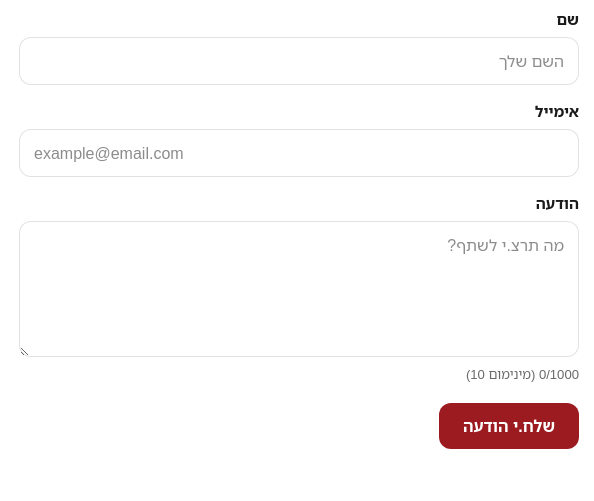
Test case: ContactForm › shows server error from failed action result
The image size is (594, 501).
In the field with placeholder "השם שלך": (299, 61) [19, 37, 579, 85], type "יוסי כהן"
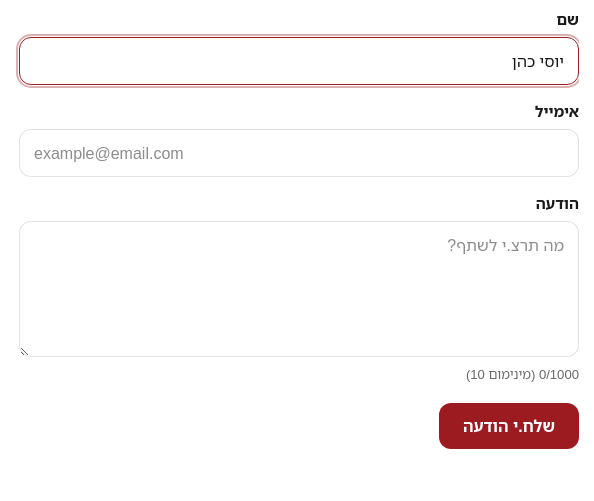
In the field with placeholder "example@email.com": (299, 153) [19, 129, 579, 177], type "test@example.com"
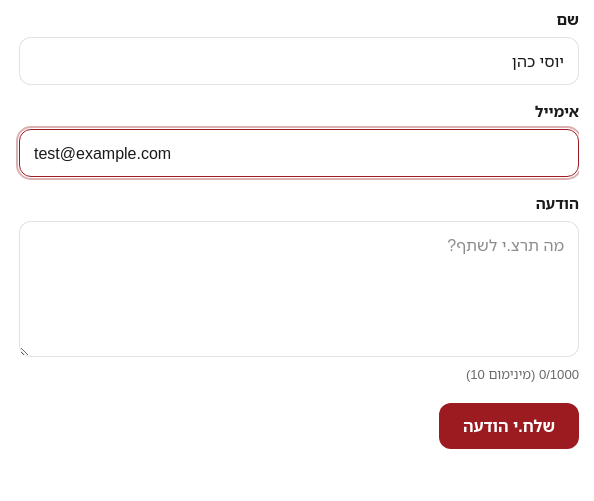
In the text box with placeholder "מה תרצ.י לשתף?": (299, 289) [19, 221, 579, 357], type "הודעה טובה מאוד שמכילה מספיק תווים"
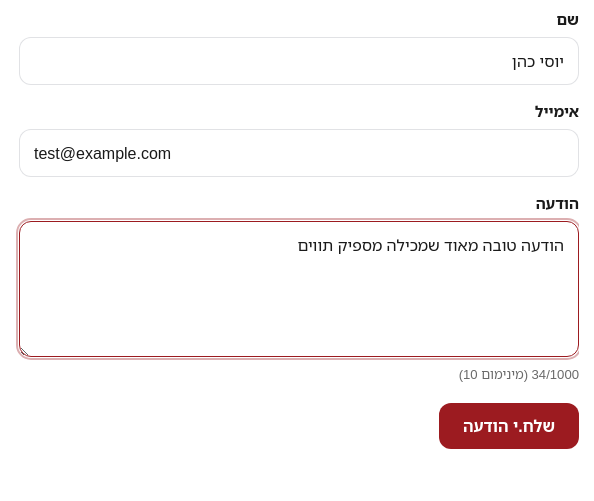
Click the button "שלח.י הודעה": (509, 426) [439, 403, 579, 449]
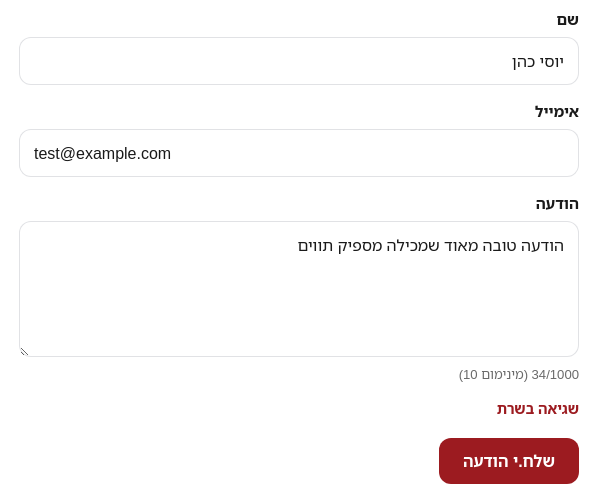
Result: the text "שגיאה בשרת" is shown at [497, 399, 579, 418]
